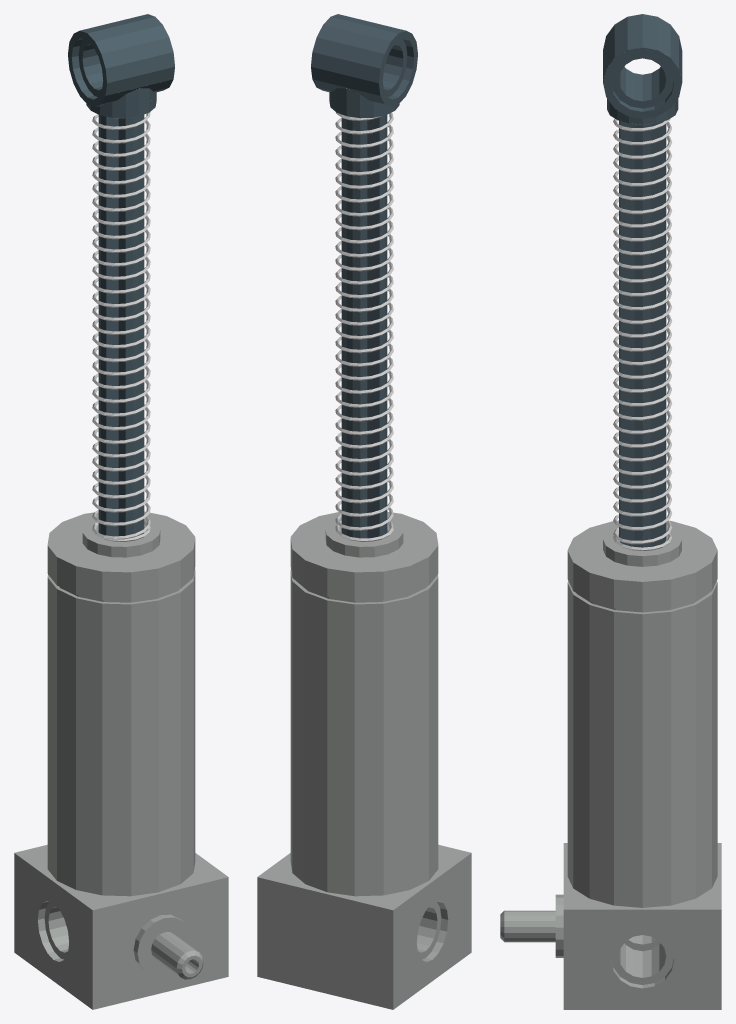
3 views of the same model, side by side, from view 1: azimuth 30°, elevation 25°; view 2: azimuth 150°, elevation 25°; view 3: azimuth 270°, elevation 25° (orthographic).
Parts seen in each view (by area): view 1: world; view 2: world; view 3: world.
Boxes of the visible parts, <box> form: world: <box>14,14,228,1009</box>; world: <box>257,14,471,1009</box>; world: <box>500,14,721,1009</box>.
Size of the model in its own units: 0.016 by 0.1056 by 0.0224.
